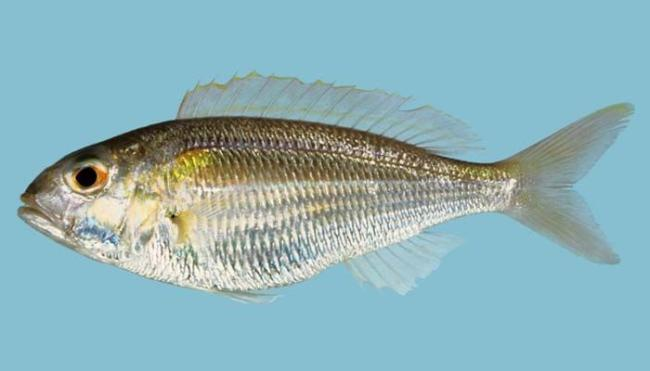fish: (18, 71, 636, 305)
